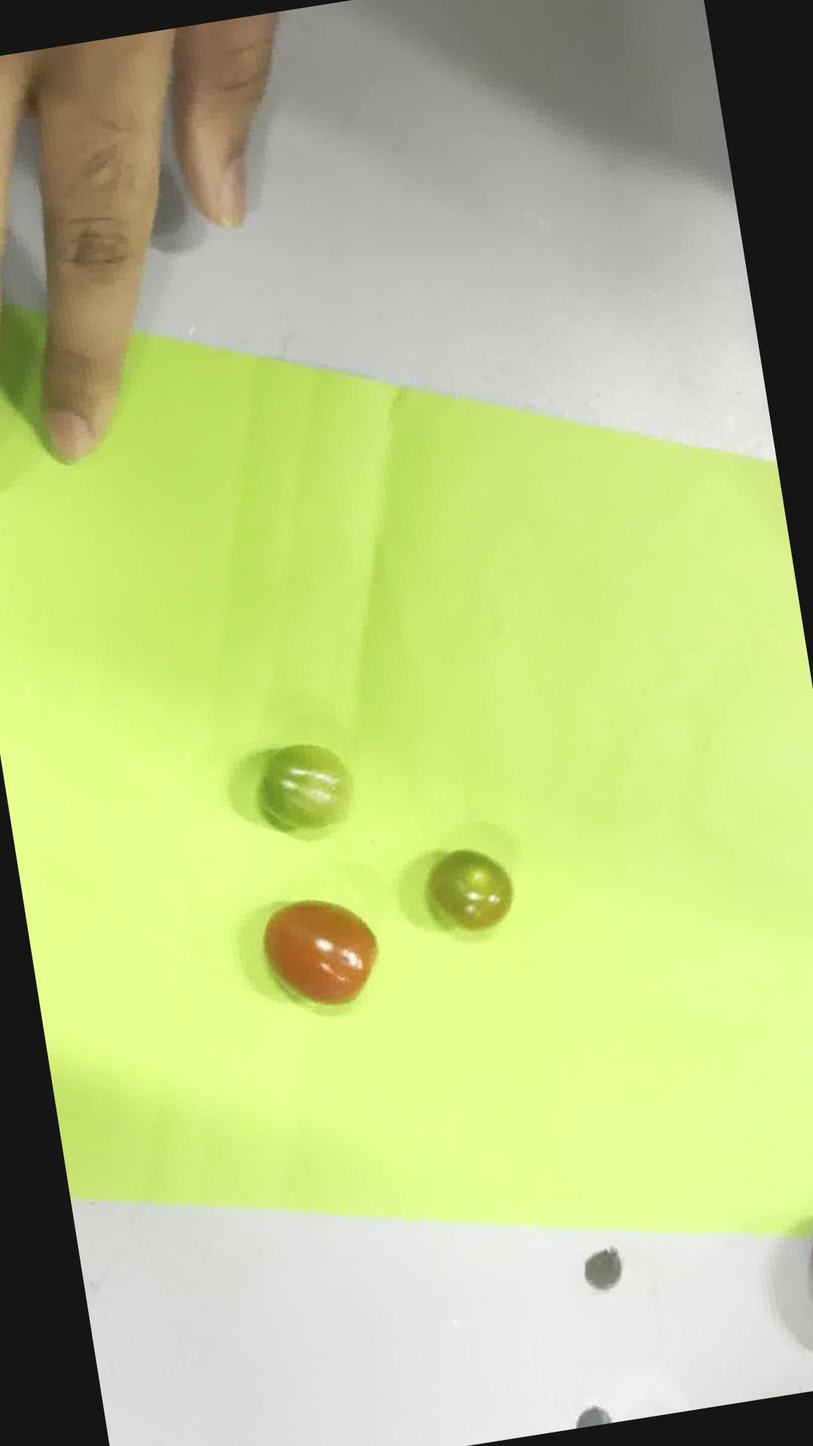green_cherry_tomato: (260, 743, 351, 829)
red_cherry_tomato: (263, 901, 377, 1004)
yellow_cherry_tomato: (428, 849, 512, 930)
